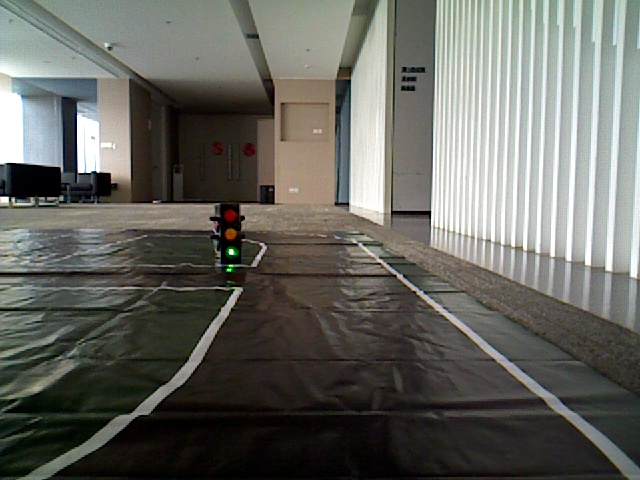green: (219, 200, 237, 257)
